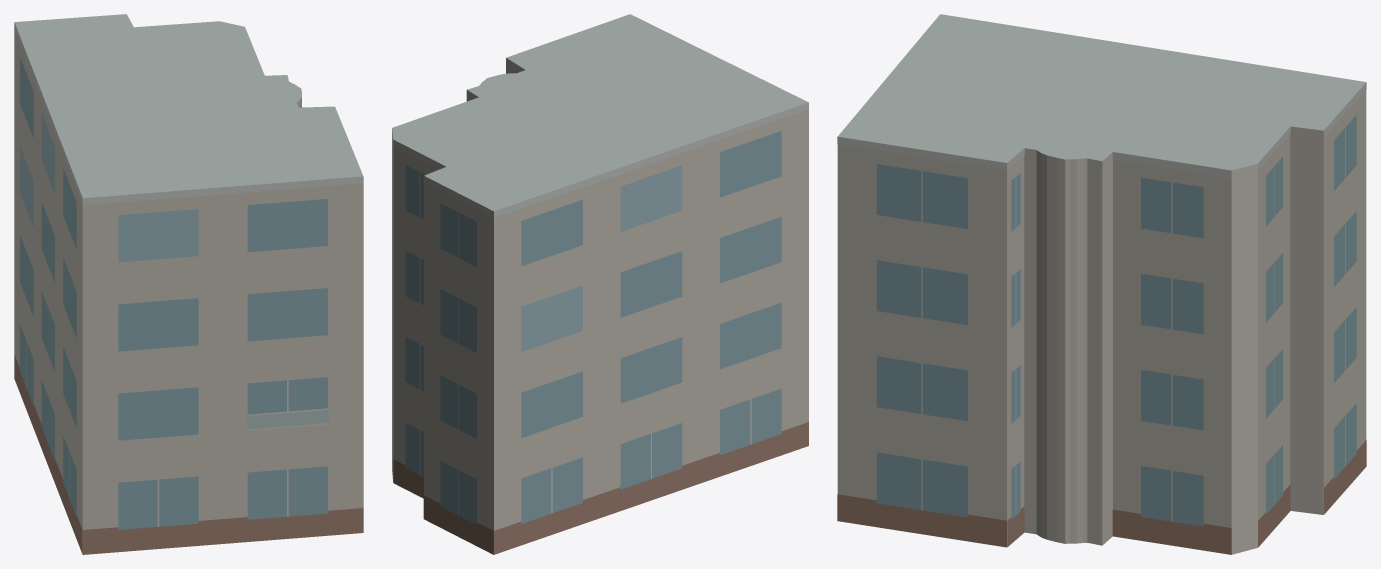
Rendered from survey-upis-32876245.glb.
3 renders of one model, left to right at view 1: azimuth 30°, elevation 25°; view 2: azimuth 150°, elevation 25°; view 3: azimuth 270°, elevation 25°, orthographic. The views are drawn at different scales.
Parts seen in each view (by area): view 1: survey-upis-32876245.tmp; view 2: survey-upis-32876245.tmp; view 3: survey-upis-32876245.tmp.
Boxes of the visible parts, x1,y1,x2,y2 form: survey-upis-32876245.tmp: [14, 14, 363, 554]; survey-upis-32876245.tmp: [392, 14, 808, 554]; survey-upis-32876245.tmp: [837, 14, 1366, 554].
Size of the model in its own units: 10.83 by 12.4 by 15.47.
